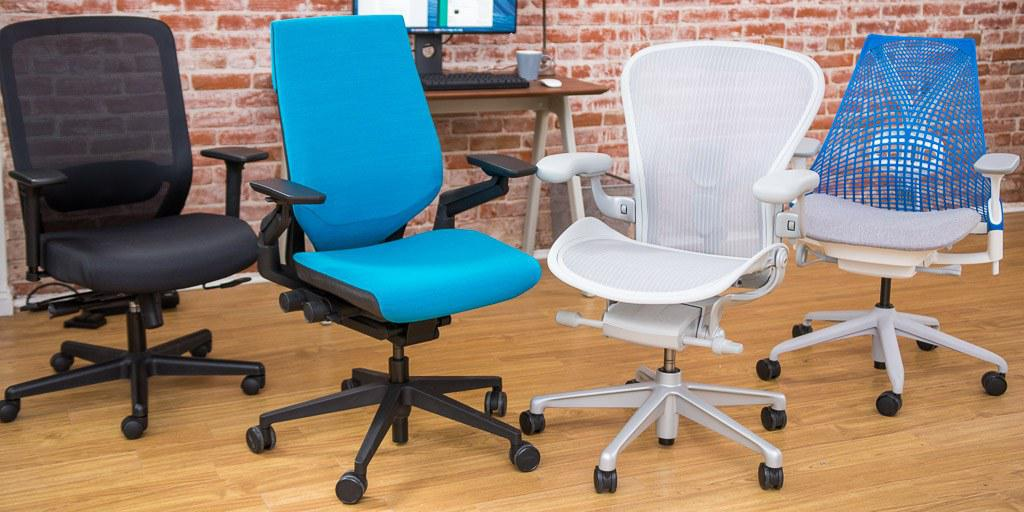chair: (519, 15, 829, 499), (249, 24, 560, 503), (1, 6, 299, 456), (758, 23, 1021, 410)
